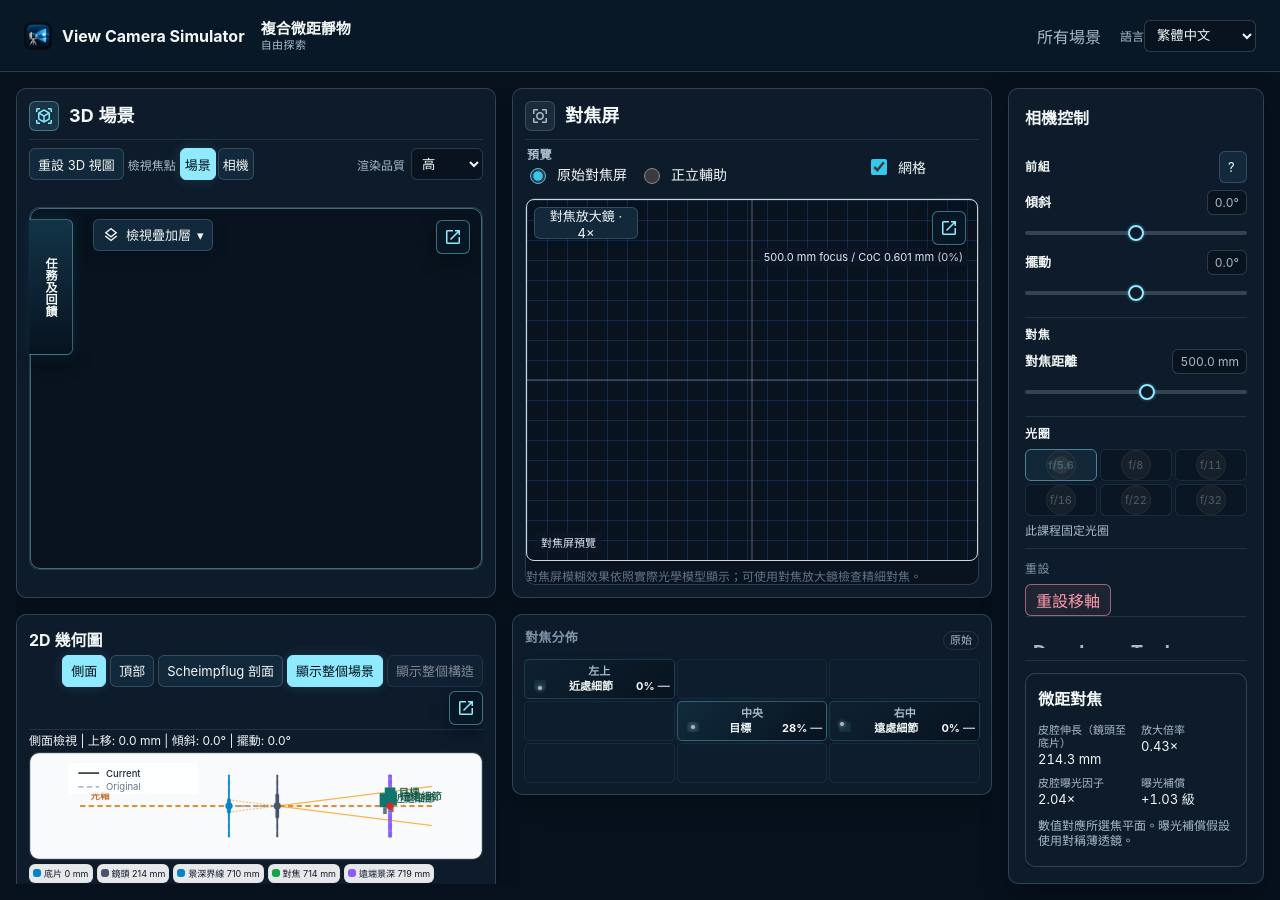
Scenario: Macro Scene 4 teaching › renders the compound teaching copy in zh-HK
The width and height of the screenshot is (1280, 900).
Click the button with aria-label "開啟任務及回饋" at [51, 287], box [29,219,73,355]
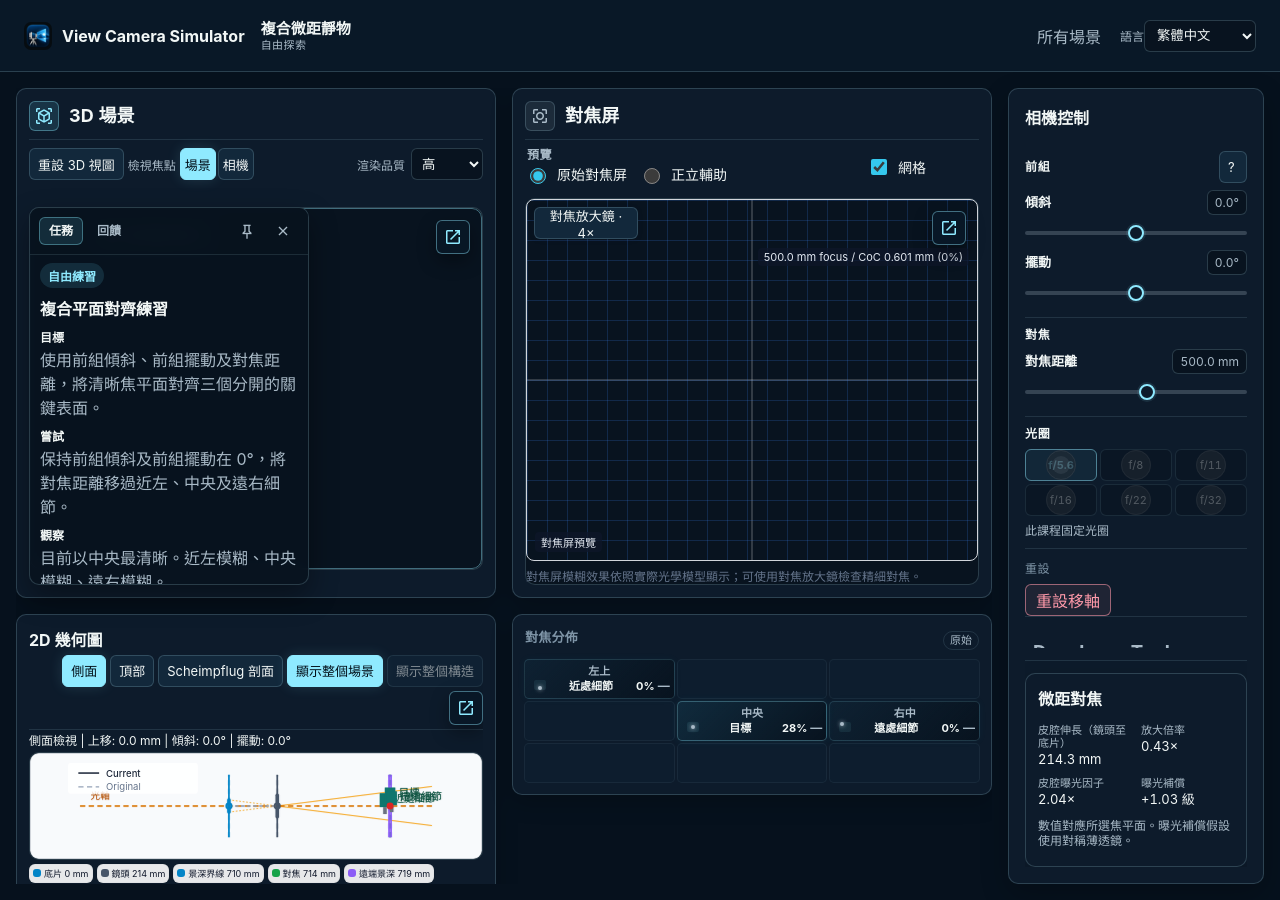
Expected: the element with test id "learning-overlay-task-view" shows "複合平面對齊練習", [40,299,168,319]
Expected: the element with test id "learning-overlay-task-view" shows "前組傾斜及前組擺動", [40,449,286,517]
Set the slider labelled "傾斜" to "3.4" at [1171, 233], box [1025,219,1247,247]
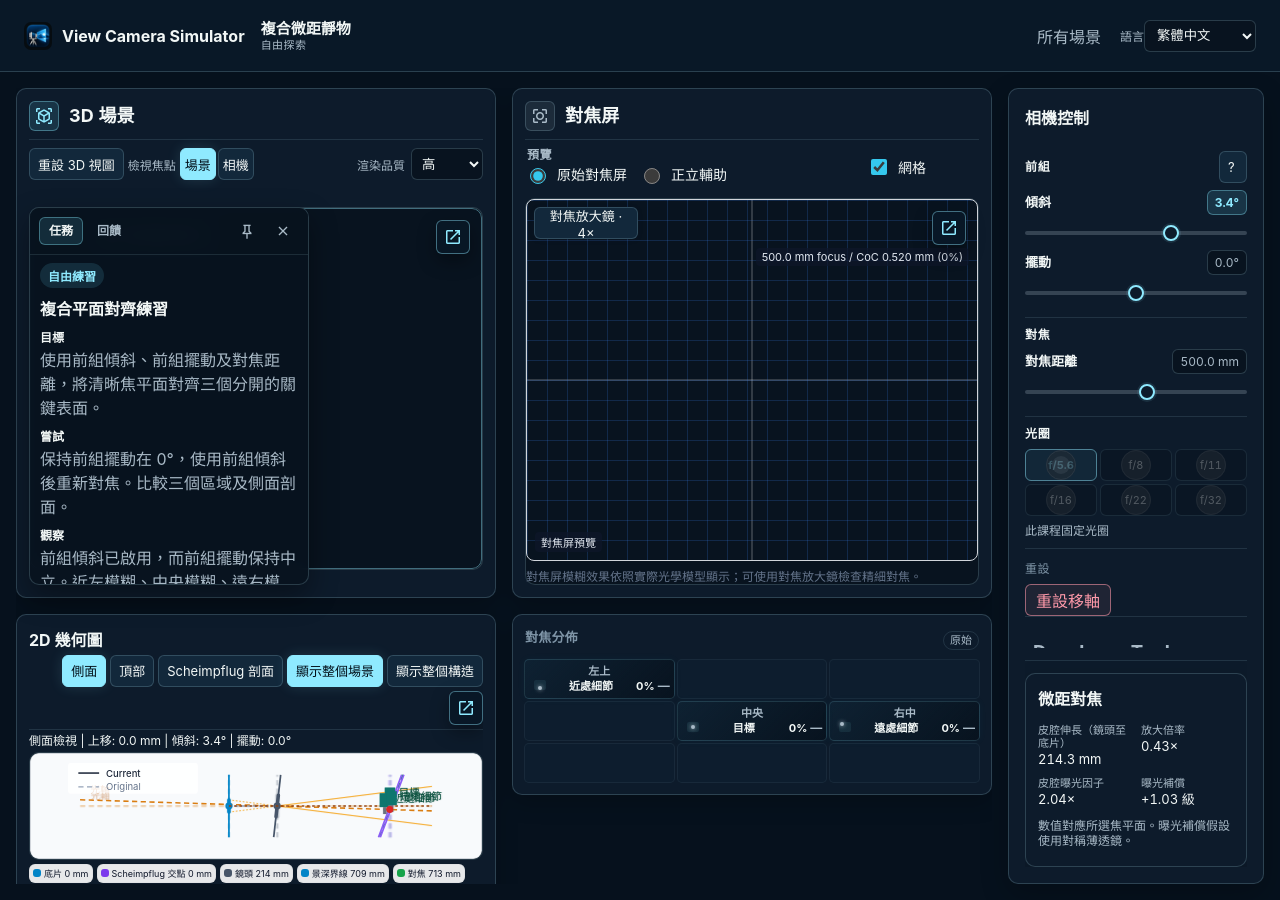
Set the slider labelled "擺動" to "-2.8" at [1107, 293], box [1025,279,1247,307]
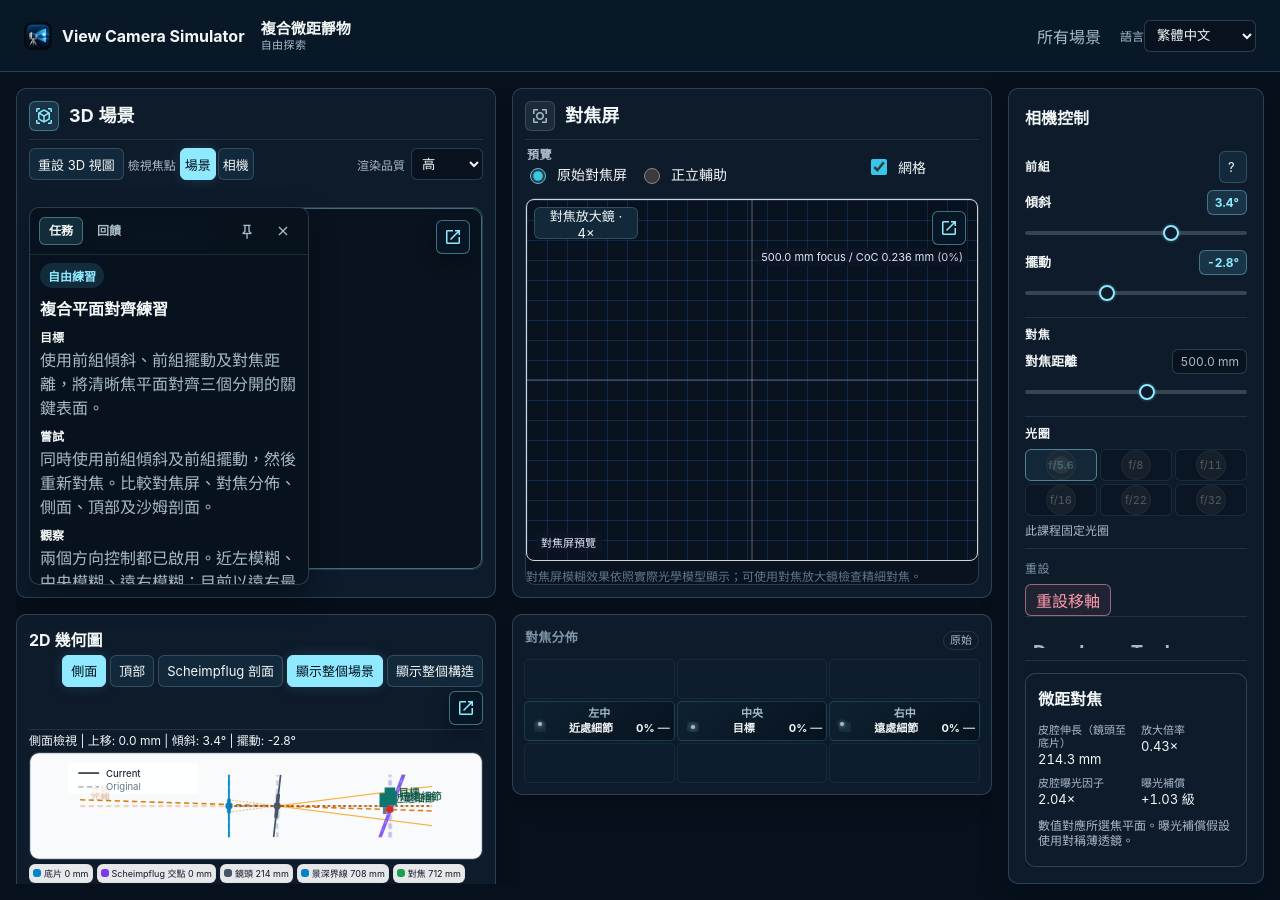
Set the slider labelled "對焦距離" to "490" at [1125, 392], box [1025,378,1247,406]
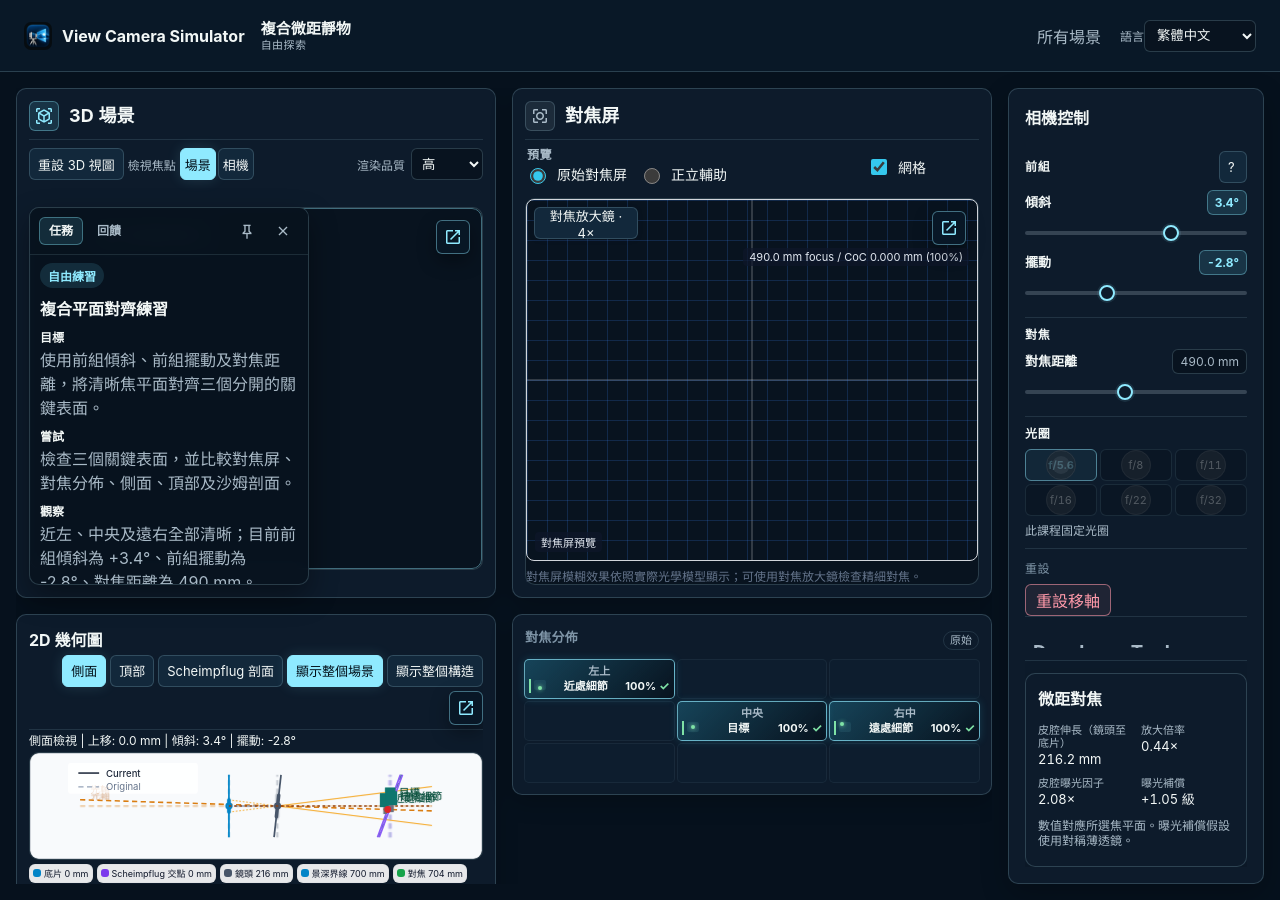
Expected: the element with test id "learning-overlay-task-view" shows "複合平面", [40,299,168,319]
Expected: the element with test id "learning-overlay-task-view" shows "全部清晰", [40,524,296,584]
